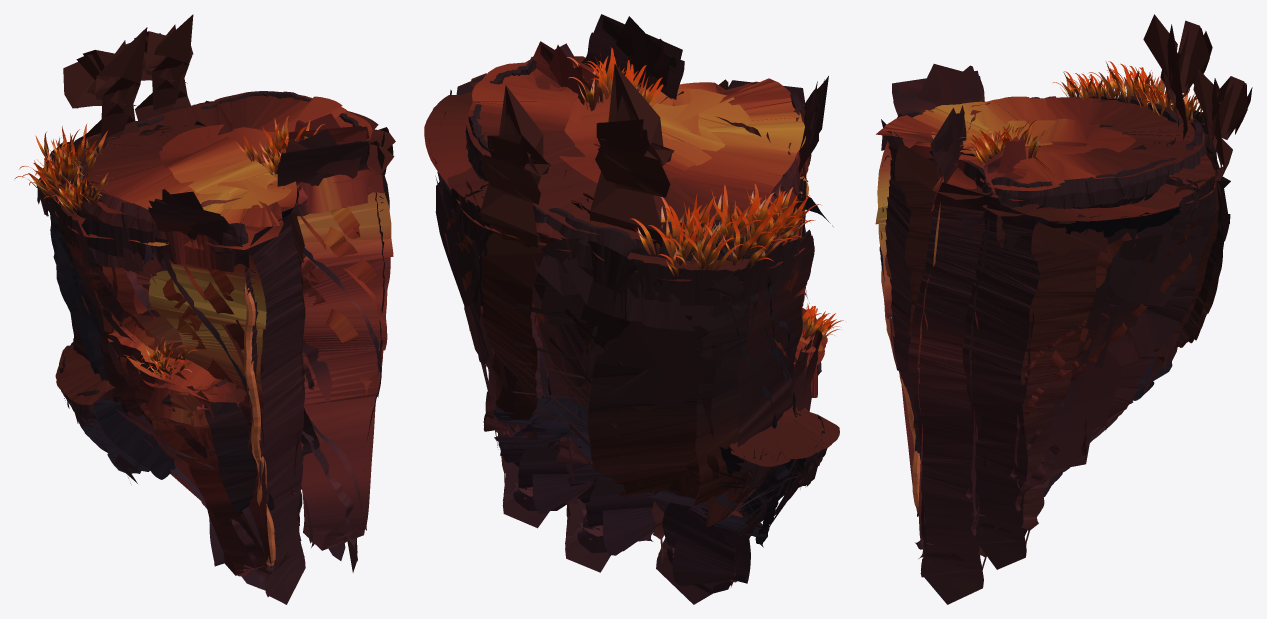
Rendered from Island_World2_02.fbx.
3 renders of one model, left to right at view 1: azimuth 30°, elevation 25°; view 2: azimuth 150°, elevation 25°; view 3: azimuth 270°, elevation 25°, orthographic. The views are drawn at different scales.
Parts seen in each view (by area): view 1: Hill03, Grass03; view 2: Hill03, Grass03; view 3: Hill03, Grass03.
Part boxes in pixels (<box>): Hill03: <box>36,14,395,604</box>; Grass03: <box>14,115,324,379</box>; Hill03: <box>424,14,839,604</box>; Grass03: <box>567,47,843,342</box>; Hill03: <box>875,14,1252,604</box>; Grass03: <box>959,61,1201,164</box>.
Bounding box in the file's own units: 1.44 × 2.21 × 1.38.
